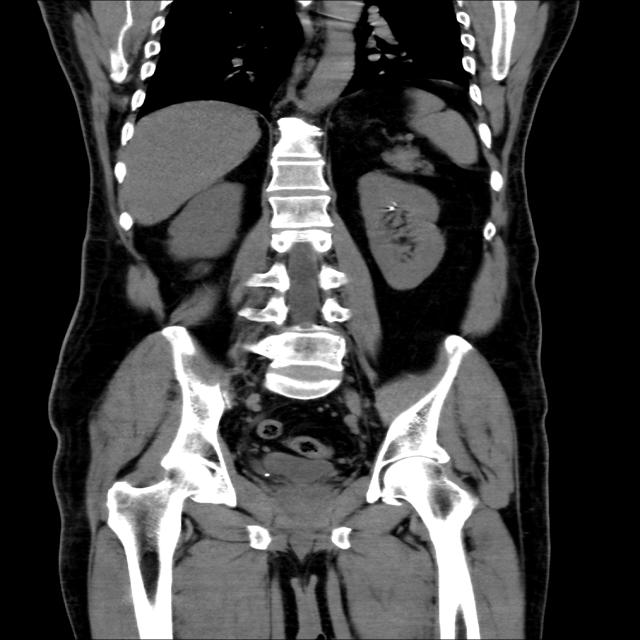kidneystone: (386, 201, 398, 211)
